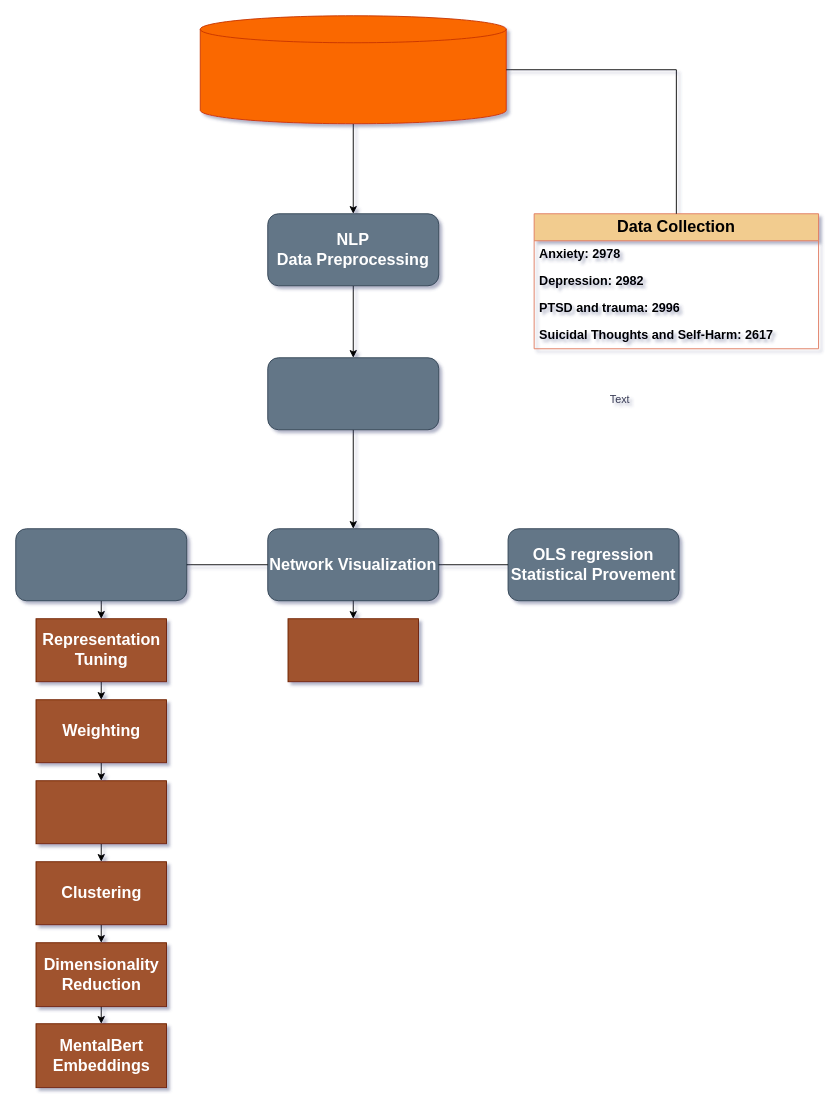
Image size: 840x1109. Some labels were removed from this diagram. The centre of each missing label's shape, as x and y in pixels:
"2014-2025 Beyond Blue Forum Data Scrapping" goes at (x=352, y=69).
"Data Analysis" goes at (x=353, y=393).
"Embedding Similarity score" goes at (x=352, y=650).
"Tokenizer" goes at (x=100, y=812).
"Topic Modeling" goes at (x=101, y=564).
